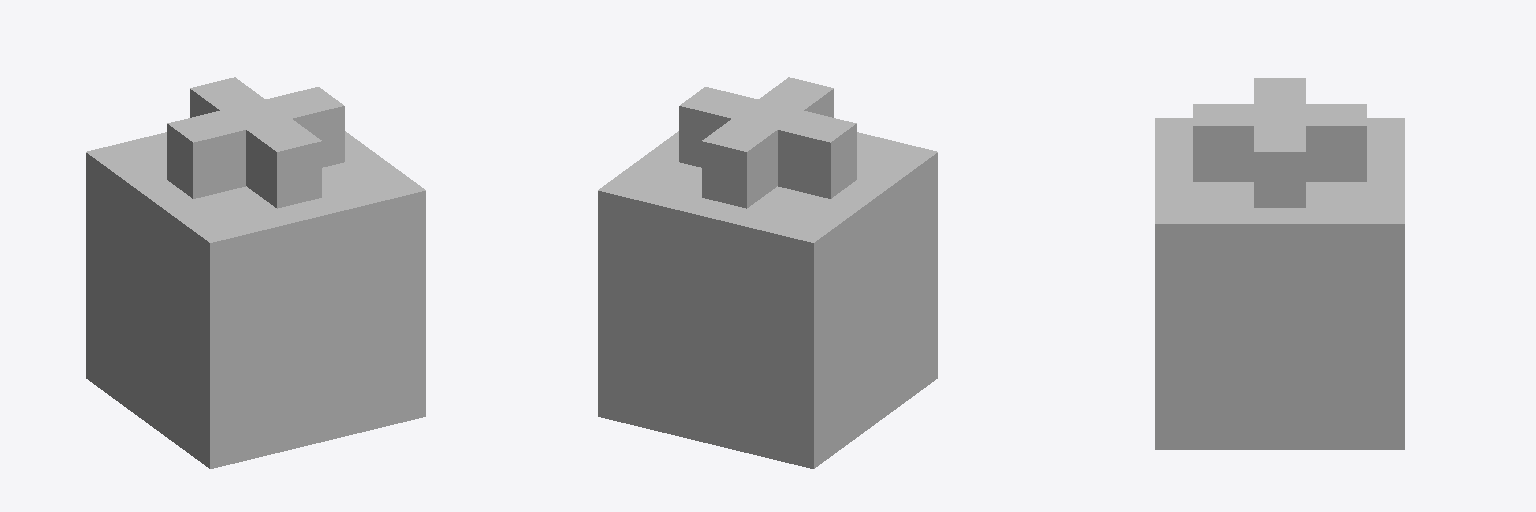
Rendered from Cross_cube_cap.obj.
3 renders of one model, left to right at view 1: azimuth 30°, elevation 25°; view 2: azimuth 150°, elevation 25°; view 3: azimuth 270°, elevation 25°, orthographic.
Parts seen in each view (by area): view 1: Cap_Cube.004; view 2: Cap_Cube.004; view 3: Cap_Cube.004.
Part boxes in pixels (left/top/right/bottom): Cap_Cube.004: left=86, top=77, right=425, bottom=468; Cap_Cube.004: left=598, top=77, right=937, bottom=468; Cap_Cube.004: left=1155, top=78, right=1404, bottom=449.
Bounding box in the file's own units: 0.08 × 0.1 × 0.08.